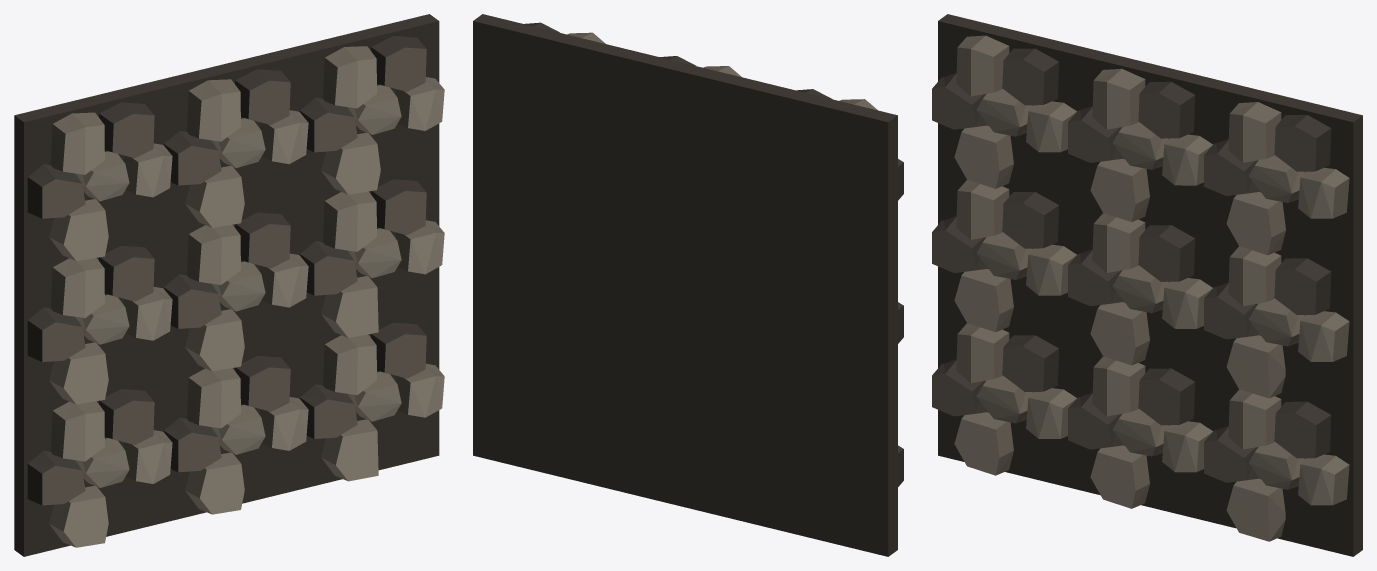
The model's file is ruins_ch_floor_a.obj.
The picture shows the model from 3 angles, left to right: view 1: azimuth 30°, elevation 25°; view 2: azimuth 150°, elevation 25°; view 3: azimuth 330°, elevation 25°; orthographic projection.
Visible parts, largest first — view 1: piece; view 2: piece; view 3: piece.
Part boxes in pixels (<box>): piece: <box>14,14,444,556</box>; piece: <box>473,14,903,556</box>; piece: <box>932,14,1362,556</box>.
Size of the model in its own units: 5 by 5 by 0.5029.
1 material, 1 textured.
